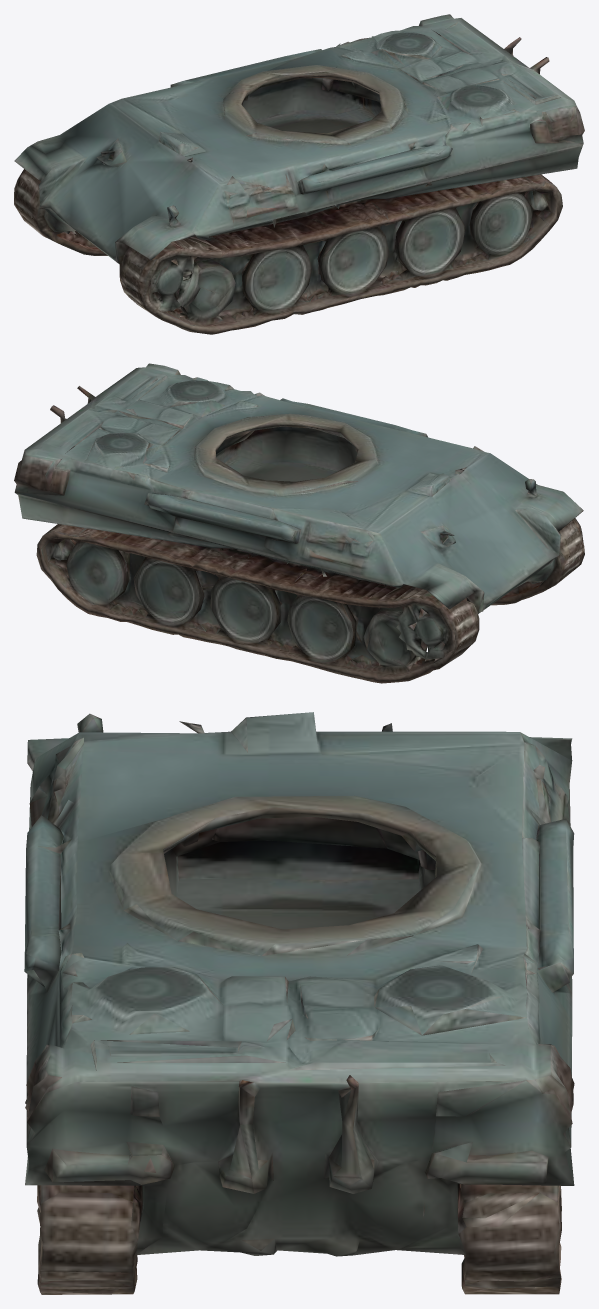
Rendered from tank-panther-hull.glb.
3 renders of one model, top to bottom at view 1: azimuth 30°, elevation 25°; view 2: azimuth 150°, elevation 25°; view 3: azimuth 270°, elevation 25°, orthographic. The views are drawn at different scales.
Visible parts, largest first — view 1: Mesh_0; view 2: Mesh_0; view 3: Mesh_0.
Part boxes in pixels (<box>): Mesh_0: <box>14,14,584,334</box>; Mesh_0: <box>14,363,584,683</box>; Mesh_0: <box>24,712,574,1294</box>.
Size of the model in its own units: 1.9 by 0.6097 by 0.9868.
Materials: 1 (1 with a texture image).
